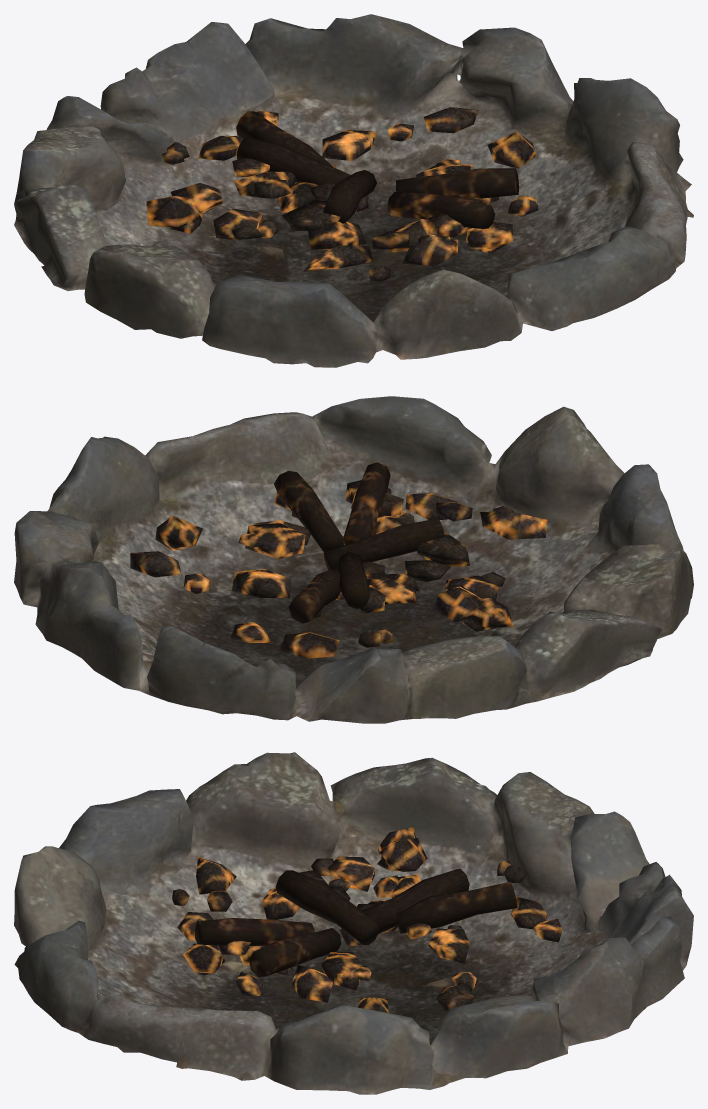
Rendered from base_P3_anella.glb.
3 views of the same model, one above another, from view 1: azimuth 30°, elevation 25°; view 2: azimuth 150°, elevation 25°; view 3: azimuth 270°, elevation 25° (orthographic).
Parts seen in each view (by area): view 1: base_P3_anella; view 2: base_P3_anella; view 3: base_P3_anella.
Part boxes in pixels (bbox=[...]): base_P3_anella: bbox=[14, 14, 693, 367]; base_P3_anella: bbox=[14, 396, 693, 723]; base_P3_anella: bbox=[14, 752, 693, 1094].
Bounding box in the file's own units: 2.1 × 0.466 × 2.08.
1 material, 1 textured.
